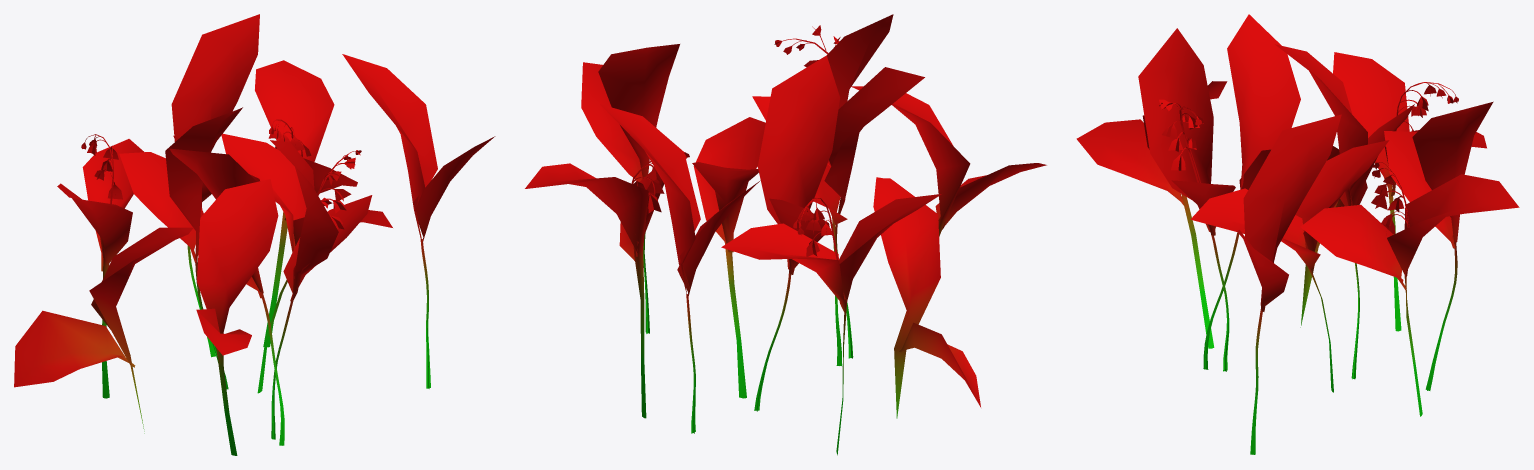
The model's file is Lily Of The Valley_LOD3_Var3_xikkdhjja.fbx.
The picture shows the model from 3 angles, left to right: view 1: azimuth 30°, elevation 25°; view 2: azimuth 150°, elevation 25°; view 3: azimuth 270°, elevation 25°; orthographic projection. The views are drawn at different scales.
Parts seen in each view (by area): view 1: _hmj8_Var3_LOD3; view 2: _hmj8_Var3_LOD3; view 3: _hmj8_Var3_LOD3.
Part boxes in pixels (x1=…): _hmj8_Var3_LOD3: x1=14, y1=14, x2=495, y2=455; _hmj8_Var3_LOD3: x1=525, y1=14, x2=1046, y2=455; _hmj8_Var3_LOD3: x1=1076, y1=14, x2=1519, y2=454.
Bounding box in the file's own units: 58.48 × 42.33 × 51.24.
